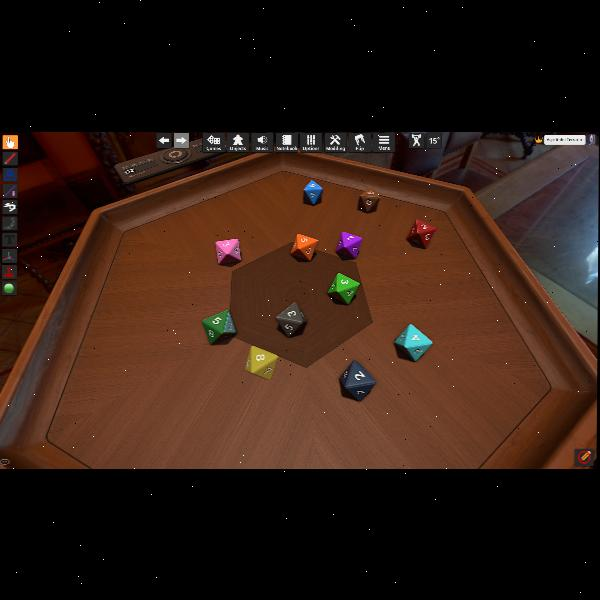d8: (341, 360, 377, 400), (397, 324, 432, 360), (201, 310, 234, 344), (276, 302, 305, 336), (328, 272, 358, 304), (247, 345, 277, 375), (407, 218, 436, 248), (336, 231, 362, 259), (216, 237, 241, 265), (291, 234, 316, 260), (359, 186, 380, 212), (303, 179, 322, 205)
